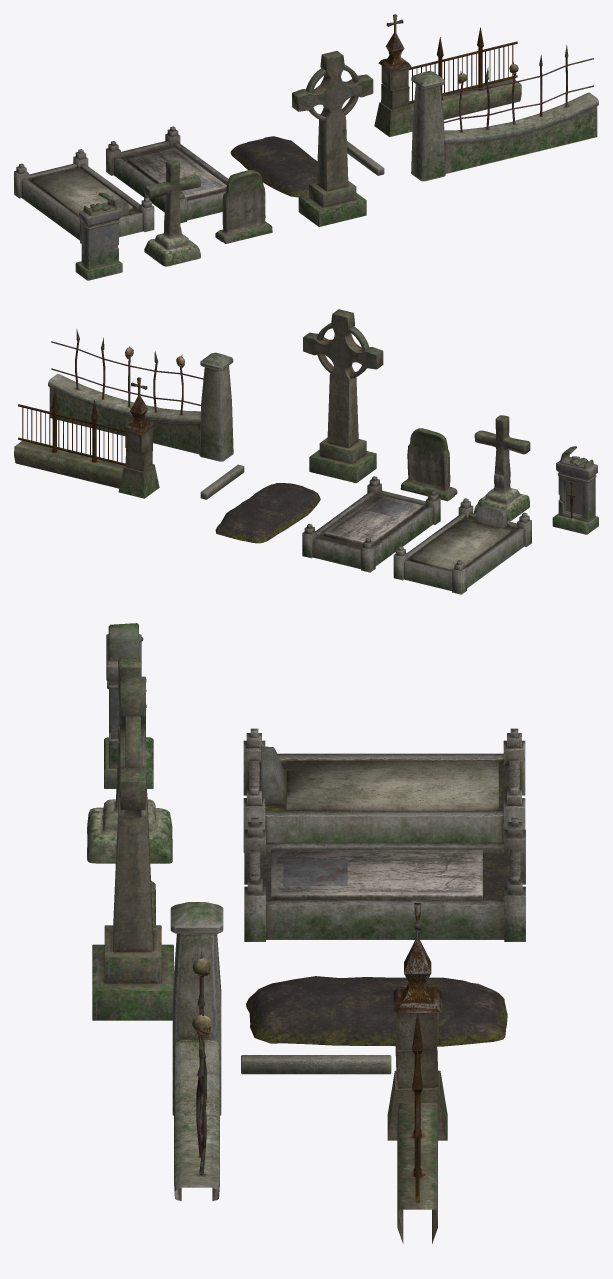
The model's file is gwKit.glb.
3 views of the same model, one above another, from view 1: azimuth 30°, elevation 25°; view 2: azimuth 150°, elevation 25°; view 3: azimuth 270°, elevation 25° (orthographic). The views are drawn at different scales.
Parts seen in each view (by area): view 1: Fence_LP_Fence_LP_0, Mogila_tipB_Mogila_tipB_0, fence_low_fence_small_0, sarcophagus_tip_B_sarcophagus_tip_B_0, sarcophagus_tip_A_sarcophagus_tip_A_0, Graund_grave_Graund_grave_0, Grave_Tip_D_LP, Mogila_tipA_LP_Mogila_tipA_LP_0, LP_tip_c_LP_tip_c_0, stone_bar_stone_bar_0; view 2: Fence_LP_Fence_LP_0, sarcophagus_tip_B_sarcophagus_tip_B_0, fence_low_fence_small_0, Mogila_tipB_Mogila_tipB_0, sarcophagus_tip_A_sarcophagus_tip_A_0, Graund_grave_Graund_grave_0, Mogila_tipA_LP_Mogila_tipA_LP_0, LP_tip_c_LP_tip_c_0, Grave_Tip_D_LP, stone_bar_stone_bar_0; view 3: sarcophagus_tip_A_sarcophagus_tip_A_0, sarcophagus_tip_B_sarcophagus_tip_B_0, Mogila_tipB_Mogila_tipB_0, Fence_LP_Fence_LP_0, Graund_grave_Graund_grave_0, fence_low_fence_small_0, Grave_Tip_D_LP, Mogila_tipA_LP_Mogila_tipA_LP_0, stone_bar_stone_bar_0.
Part boxes in pixels (left/top/right/bottom): Fence_LP_Fence_LP_0: left=411, top=44, right=598, bottom=181; Mogila_tipB_Mogila_tipB_0: left=292, top=51, right=373, bottom=226; fence_low_fence_small_0: left=374, top=14, right=521, bottom=136; sarcophagus_tip_B_sarcophagus_tip_B_0: left=14, top=149, right=154, bottom=243; sarcophagus_tip_A_sarcophagus_tip_A_0: left=106, top=126, right=228, bottom=223; Graund_grave_Graund_grave_0: left=230, top=136, right=317, bottom=197; Grave_Tip_D_LP: left=144, top=159, right=200, bottom=266; Mogila_tipA_LP_Mogila_tipA_LP_0: left=75, top=193, right=122, bottom=280; LP_tip_c_LP_tip_c_0: left=215, top=170, right=272, bottom=243; stone_bar_stone_bar_0: left=347, top=141, right=384, bottom=175; Fence_LP_Fence_LP_0: left=48, top=329, right=233, bottom=461; sarcophagus_tip_B_sarcophagus_tip_B_0: left=393, top=498, right=531, bottom=594; fence_low_fence_small_0: left=14, top=377, right=159, bottom=498; Mogila_tipB_Mogila_tipB_0: left=303, top=309, right=383, bottom=483; sarcophagus_tip_A_sarcophagus_tip_A_0: left=302, top=476, right=440, bottom=572; Graund_grave_Graund_grave_0: left=215, top=483, right=320, bottom=543; Mogila_tipA_LP_Mogila_tipA_LP_0: left=552, top=446, right=598, bottom=534; LP_tip_c_LP_tip_c_0: left=400, top=428, right=457, bottom=501; Grave_Tip_D_LP: left=474, top=415, right=530, bottom=521; stone_bar_stone_bar_0: left=200, top=464, right=244, bottom=499; sarcophagus_tip_A_sarcophagus_tip_A_0: left=244, top=817, right=525, bottom=941; sarcophagus_tip_B_sarcophagus_tip_B_0: left=243, top=728, right=525, bottom=852; Mogila_tipB_Mogila_tipB_0: left=92, top=676, right=173, bottom=1020; Fence_LP_Fence_LP_0: left=170, top=902, right=223, bottom=1200; Graund_grave_Graund_grave_0: left=246, top=976, right=507, bottom=1046; fence_low_fence_small_0: left=387, top=903, right=447, bottom=1243; Grave_Tip_D_LP: left=87, top=658, right=172, bottom=863; Mogila_tipA_LP_Mogila_tipA_LP_0: left=104, top=623, right=153, bottom=788; stone_bar_stone_bar_0: left=241, top=1055, right=391, bottom=1074.
Bounding box in the file's own units: 1208 × 355 × 439.
Materials: 10 (10 with a texture image).
